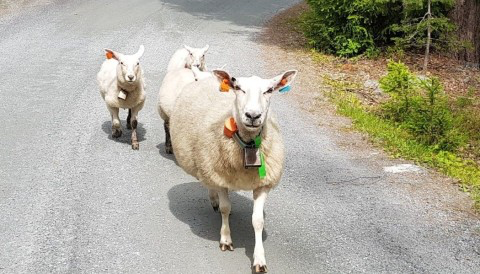koyun: (175, 69, 298, 274), (97, 46, 147, 151), (172, 42, 208, 69)
